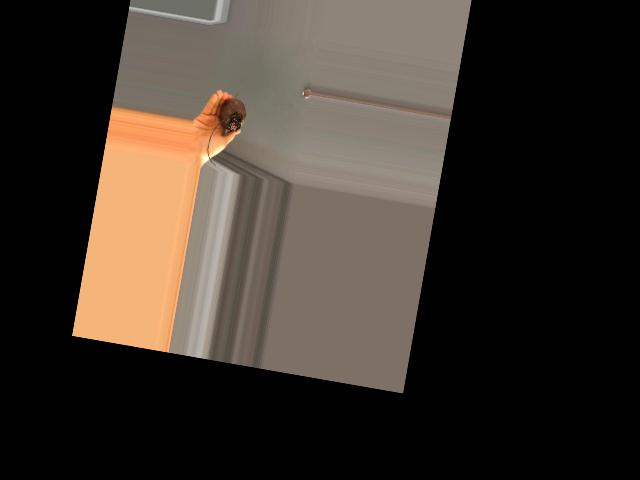beet: (204, 86, 249, 168)
